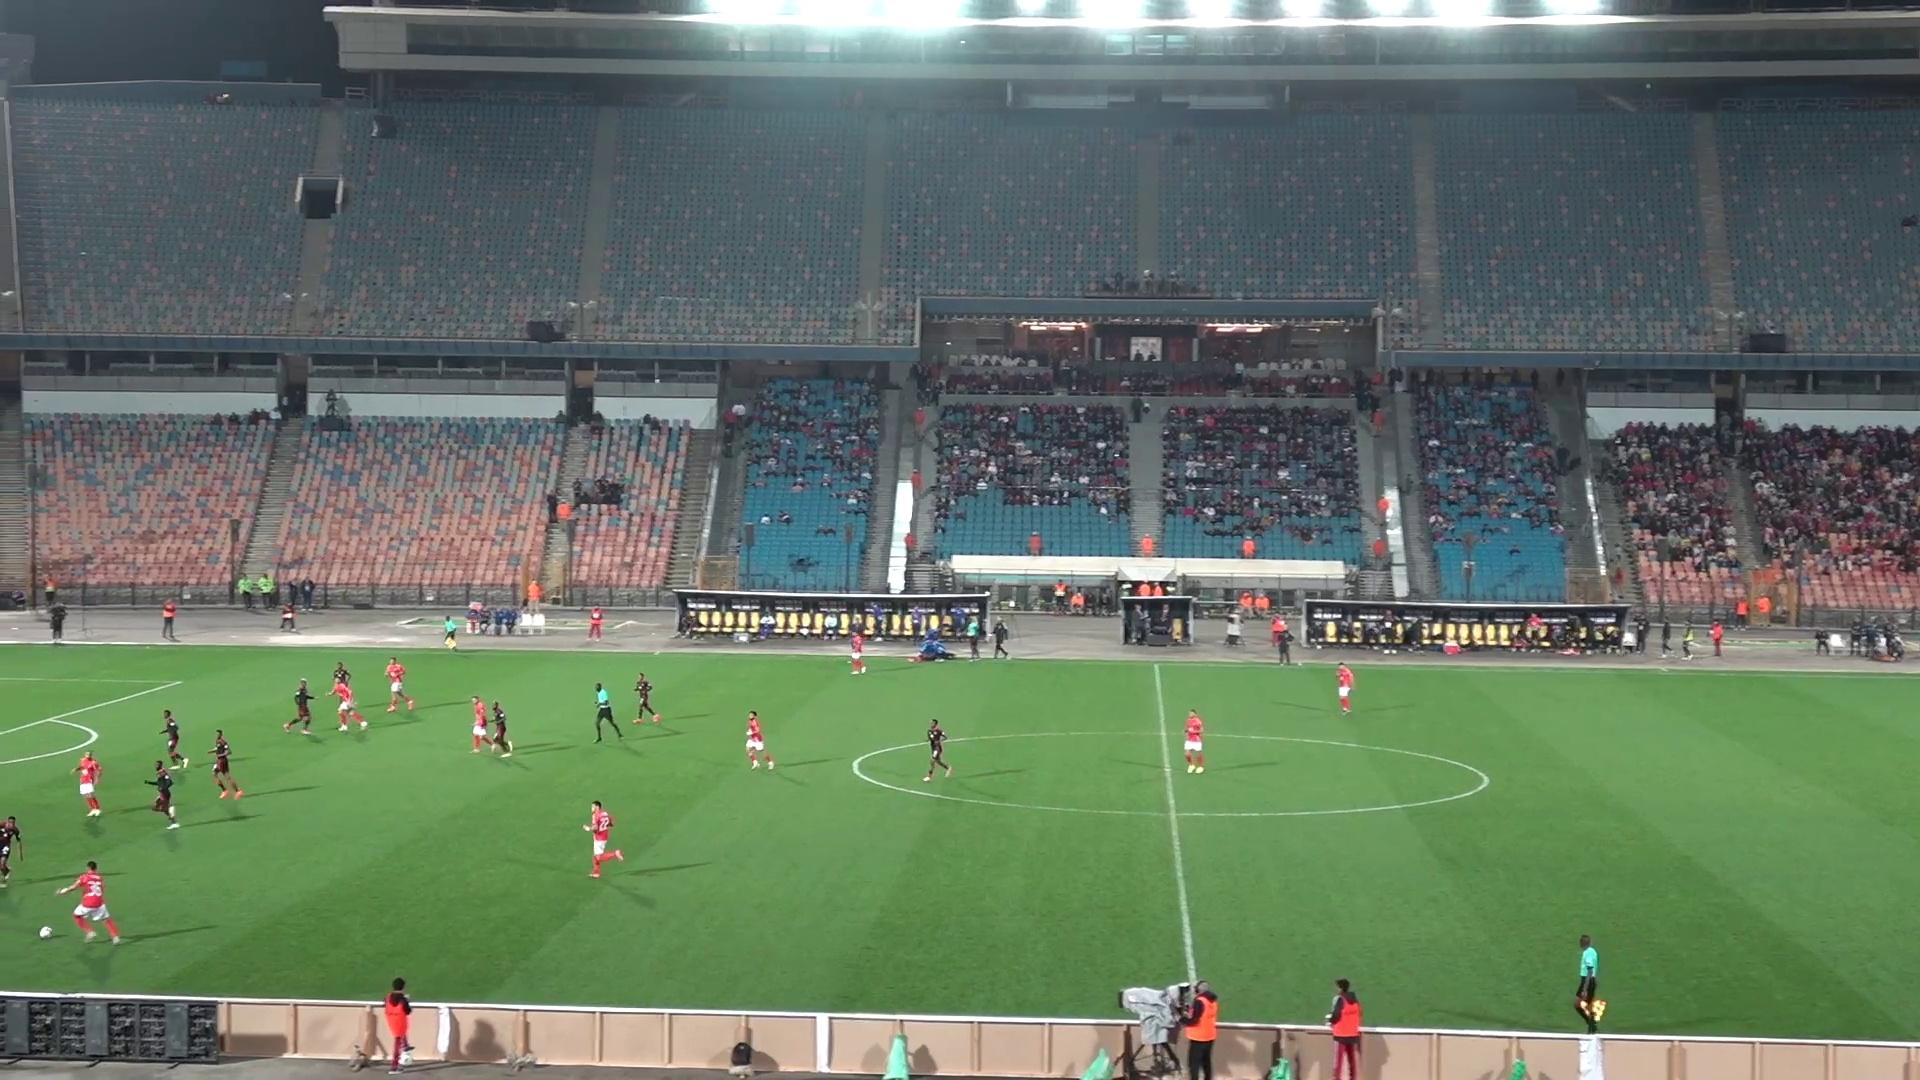Ball: (40, 926, 53, 939)
Refree: (1573, 935, 1606, 1031), (593, 684, 622, 740), (960, 612, 986, 659), (442, 616, 469, 650)
Team1: (57, 861, 120, 944), (584, 800, 622, 878), (328, 669, 368, 732), (73, 752, 103, 818), (744, 711, 775, 769), (385, 657, 415, 709), (1182, 709, 1205, 773), (472, 698, 495, 752), (1336, 663, 1354, 713), (849, 632, 868, 673)
Team2: (142, 757, 183, 828), (211, 731, 245, 799), (922, 717, 952, 782), (282, 678, 315, 733), (481, 702, 514, 756), (160, 709, 189, 767), (0, 815, 22, 885), (632, 673, 662, 723), (331, 662, 352, 686)
